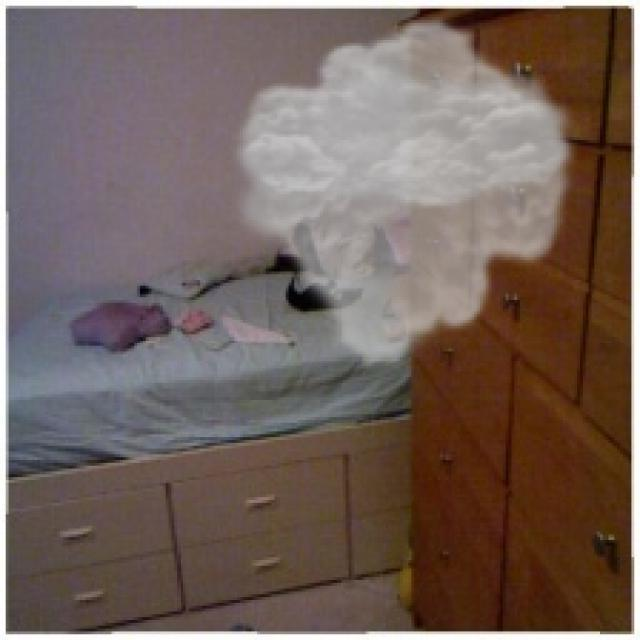Smoke: (226, 14, 583, 374)
